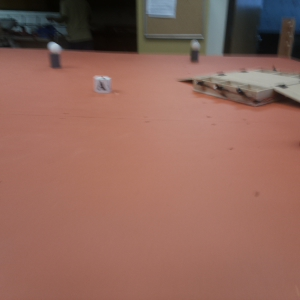blockA: (92, 74, 113, 94)
corner: (277, 15, 295, 60)
obstacle: (47, 41, 62, 70), (185, 37, 202, 62)
side: (196, 79, 262, 104)
slope: (276, 83, 300, 106)
